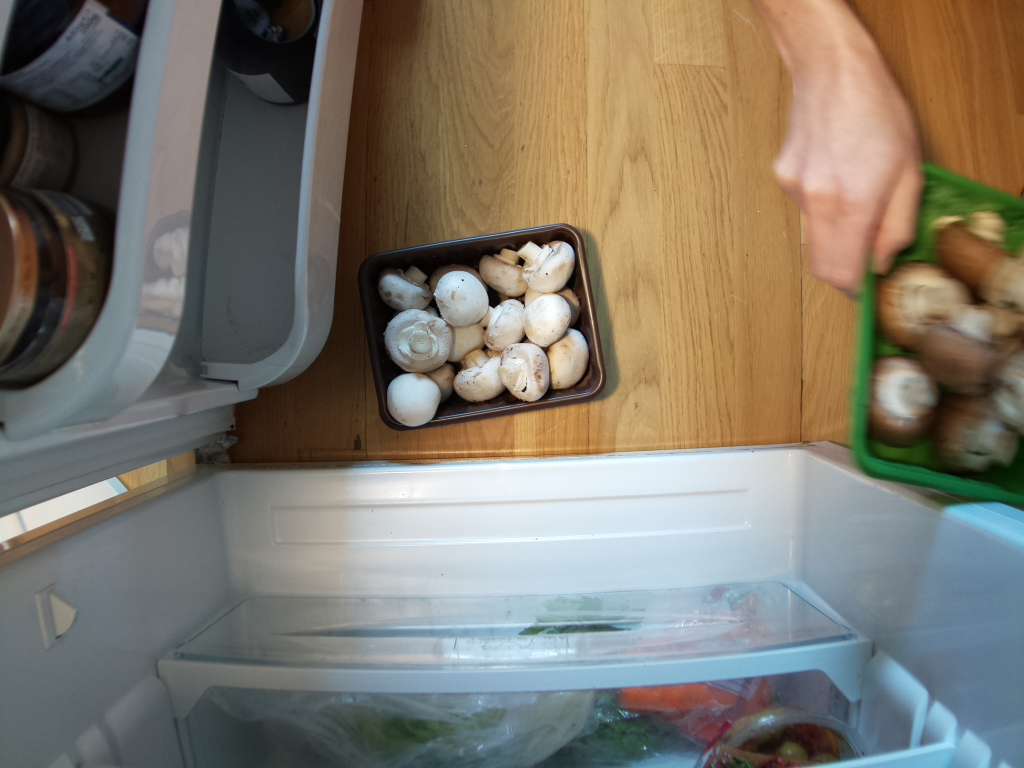mushrooms: (359, 228, 611, 437), (848, 204, 1024, 495)
